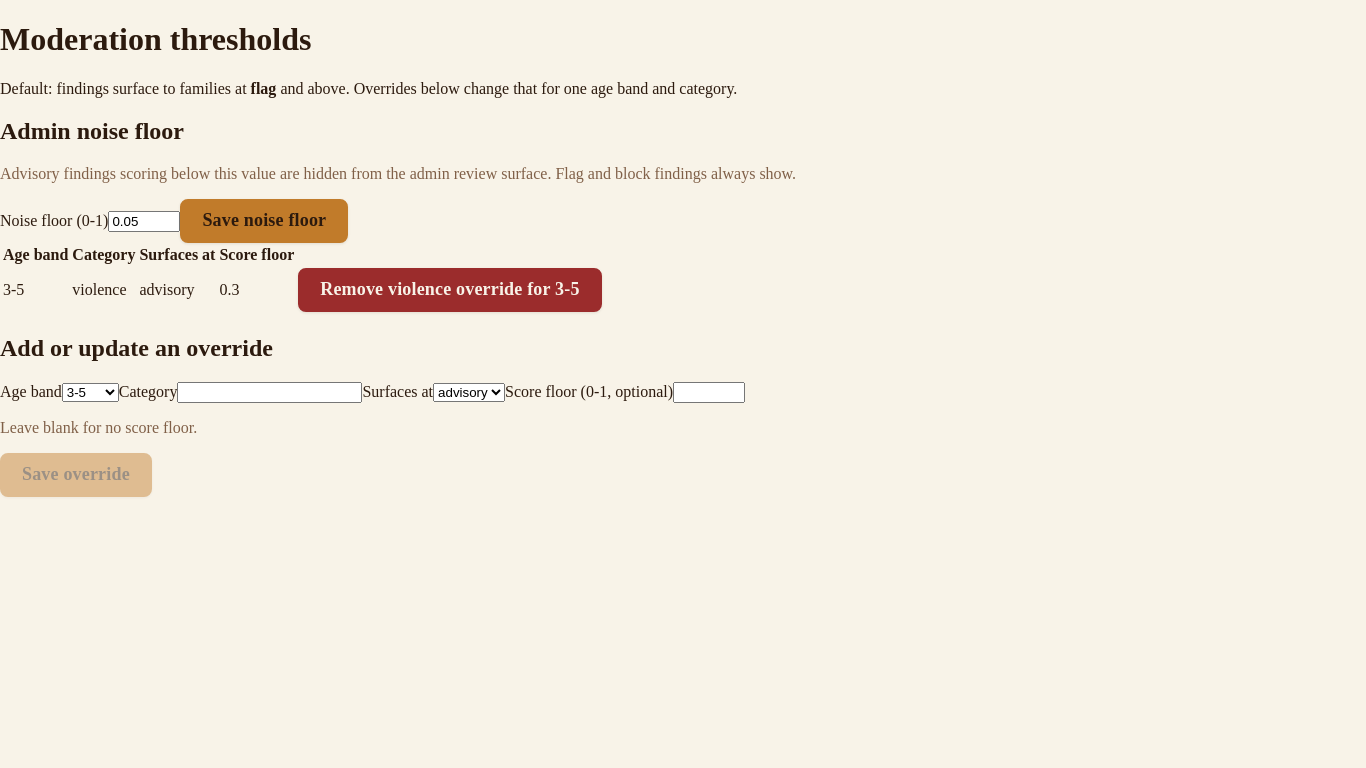
Test: ModerationThresholdsPage › does not warn inside the noise-floor confirm when the value is exactly the 0.3 boundary
The width and height of the screenshot is (1366, 768).
Expected: the text "surface to families at" is shown, [0,80,251,97]
Replace the text in the number field labelled "Noise floor (0-1)" with "0.3" at (144, 222), box [108,211,180,232]
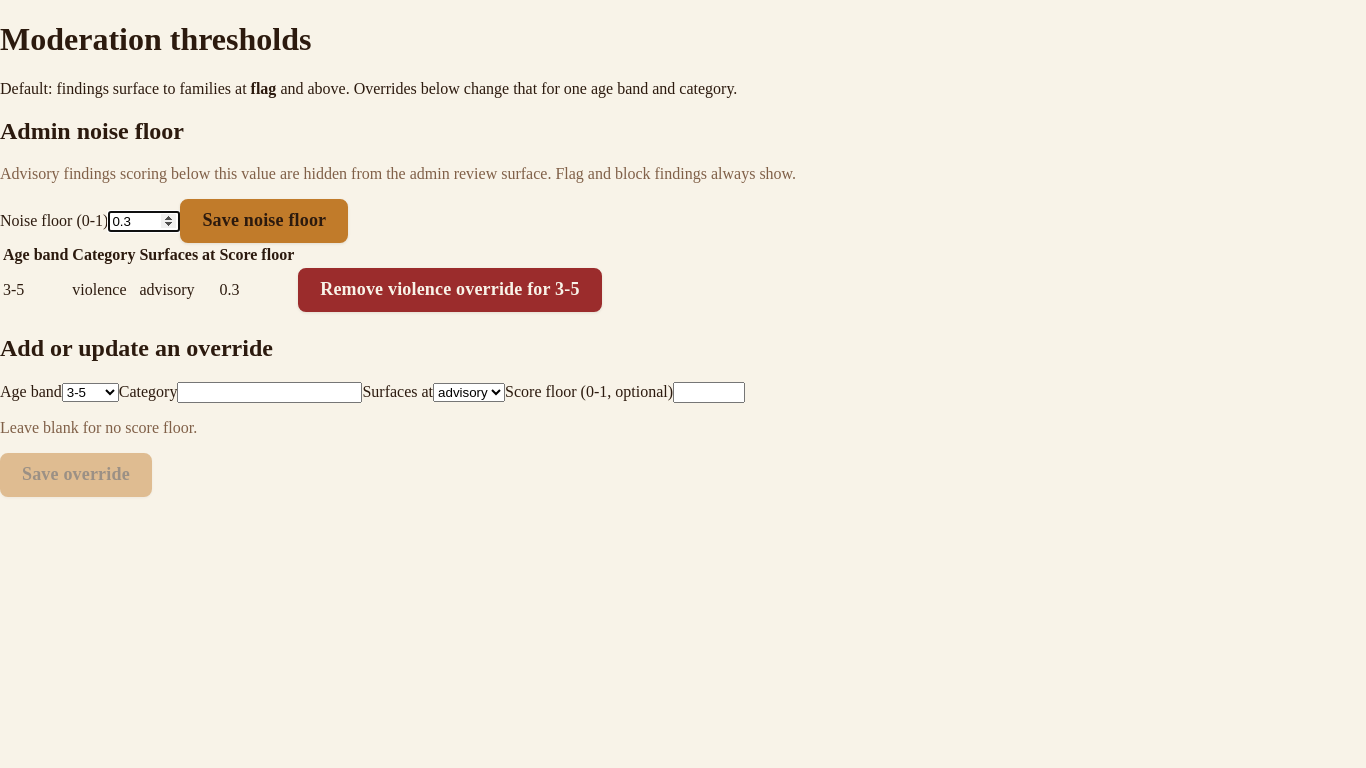
Click the button "Save noise floor" at (264, 221), box [180,199,348,243]
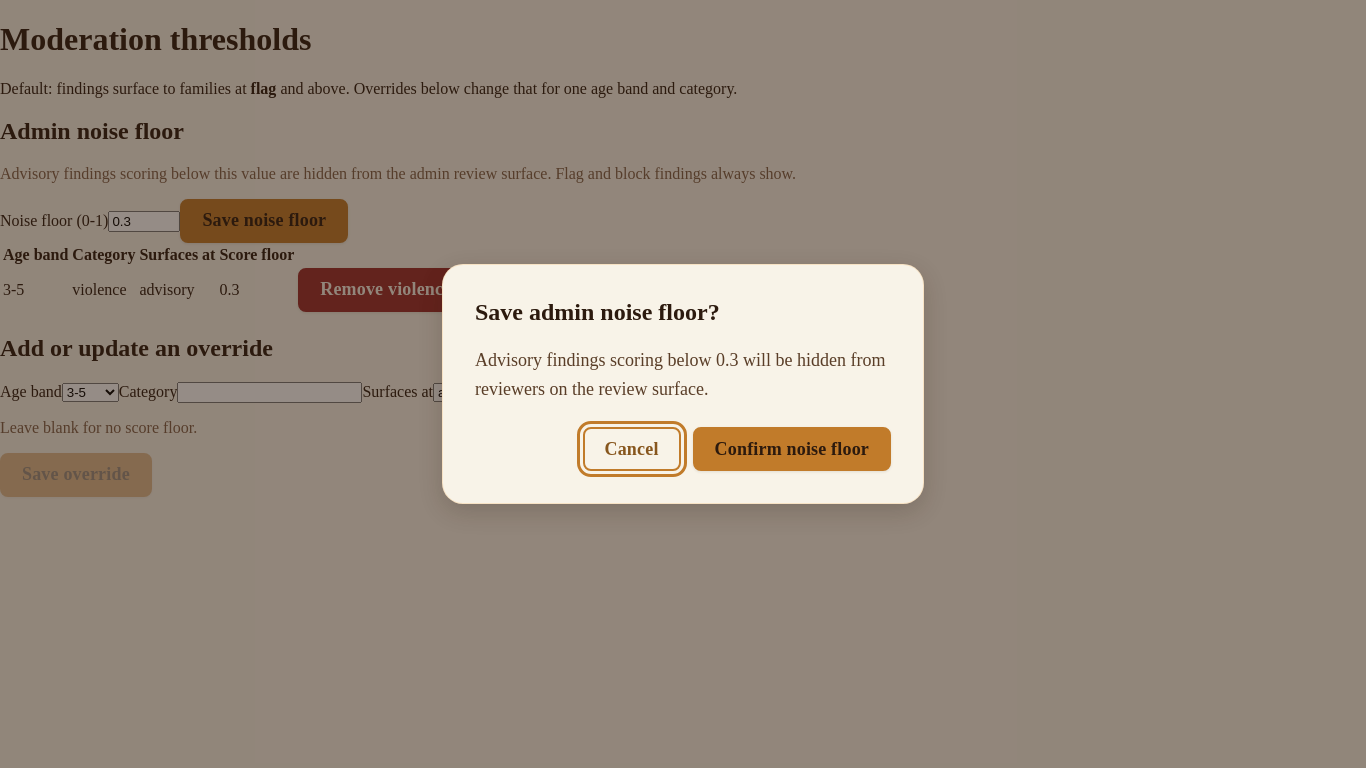
Expected: the dialog does not show "will hide most advisory findings", [443,265,923,503]
Expected: the dialog shows "Advisory findings scoring below 0.3 will be hidden from reviewers on the review surface.", [443,265,923,503]
